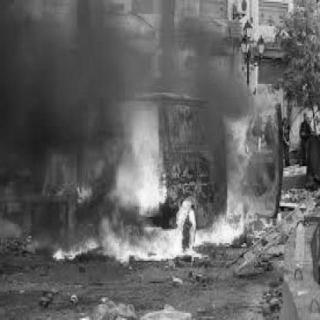Fire: (28, 90, 284, 266)
Smoke: (2, 7, 149, 144)
